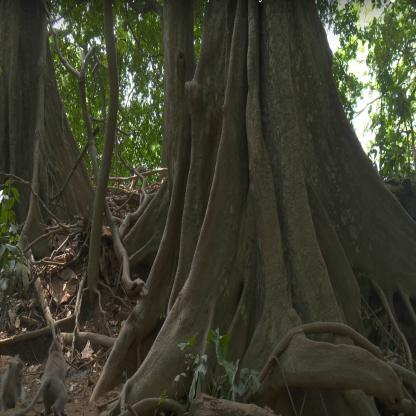monkey: (34, 337, 68, 414), (1, 353, 26, 413)
